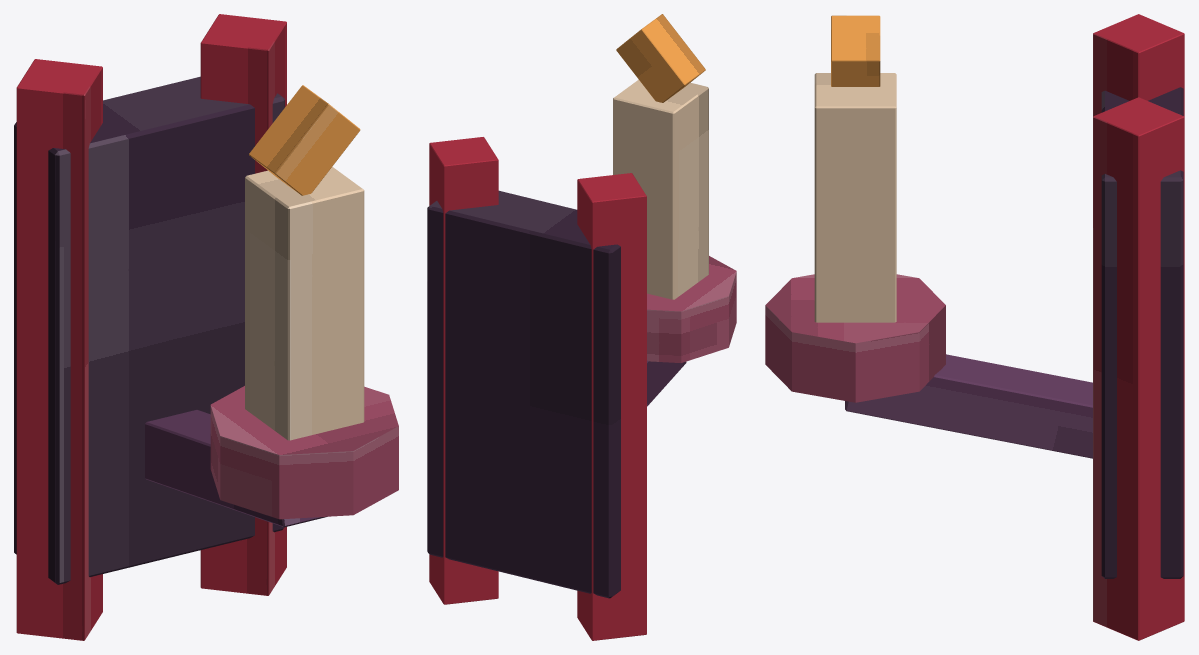
File: wall_sconce_gothic.glb
3 views of the same model, side by side, from view 1: azimuth 30°, elevation 25°; view 2: azimuth 150°, elevation 25°; view 3: azimuth 270°, elevation 25° (orthographic). The views are drawn at different scales.
Visible parts, largest first — view 1: SconcePlate, SconceSpikeL, SconceCandle, SconceCup, SconceSpikeR, SconceFlame, SconceArm; view 2: SconcePlate, SconceSpikeL, SconceCandle, SconceSpikeR, SconceCup, SconceFlame, SconceArm; view 3: SconceSpikeR, SconceCandle, SconcePlate, SconceCup, SconceArm, SconceSpikeL, SconceFlame.
Part boxes in pixels (bbox=[...]): SconcePlate: bbox=[14, 76, 284, 584]; SconceSpikeL: bbox=[16, 59, 102, 640]; SconceCandle: bbox=[245, 167, 364, 440]; SconceCup: bbox=[210, 386, 398, 519]; SconceSpikeR: bbox=[200, 14, 286, 595]; SconceFlame: bbox=[249, 85, 360, 195]; SconceArm: bbox=[145, 410, 327, 527]; SconcePlate: bbox=[427, 190, 620, 598]; SconceSpikeL: bbox=[577, 173, 646, 640]; SconceCandle: bbox=[613, 79, 708, 299]; SconceSpikeR: bbox=[429, 137, 498, 604]; SconceCup: bbox=[647, 256, 736, 362]; SconceFlame: bbox=[616, 14, 705, 102]; SconceArm: bbox=[647, 360, 686, 406]; SconceSpikeR: bbox=[1093, 97, 1184, 640]; SconceCandle: bbox=[814, 73, 896, 322]; SconcePlate: bbox=[1101, 87, 1183, 578]; SconceCup: bbox=[765, 274, 945, 402]; SconceArm: bbox=[845, 354, 1092, 458]; SconceSpikeL: bbox=[1093, 14, 1184, 116]; SconceFlame: bbox=[831, 15, 880, 86].
Bounding box in the file's own units: 0.3517 × 0.7659 × 0.5109.
Materials: 1 (1 with a texture image).
